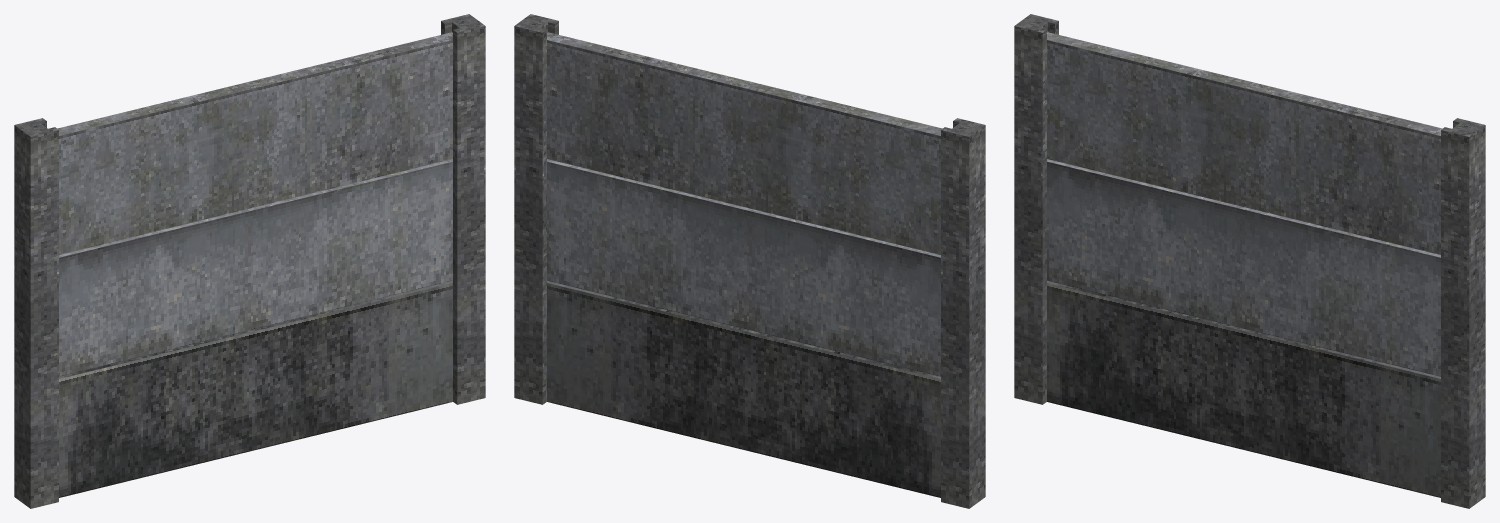
The model's file is plackard_closed_full.glb.
3 renders of one model, left to right at view 1: azimuth 30°, elevation 25°; view 2: azimuth 150°, elevation 25°; view 3: azimuth 330°, elevation 25°, orthographic.
Parts seen in each view (by area): view 1: plackard_closed_full; view 2: plackard_closed_full; view 3: plackard_closed_full.
Boxes of the visible parts, x1,y1,x2,y2 form: plackard_closed_full: [14, 14, 485, 508]; plackard_closed_full: [514, 14, 985, 508]; plackard_closed_full: [1014, 14, 1485, 508].
Size of the model in its own units: 4 by 3.12 by 0.25.
1 material, 1 textured.
